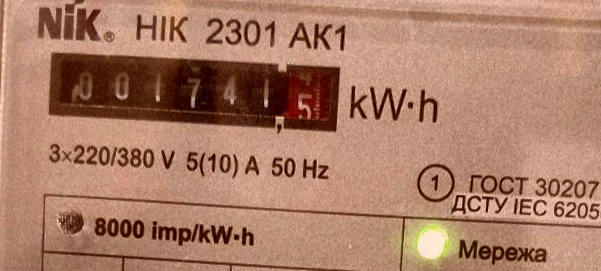0: (109, 67, 130, 103), (73, 68, 94, 102)
1: (145, 68, 165, 105), (255, 75, 272, 111)
4: (217, 71, 239, 107), (295, 69, 312, 88)
5: (291, 88, 312, 121)
7: (181, 73, 200, 110)
screen: (39, 39, 347, 142)
